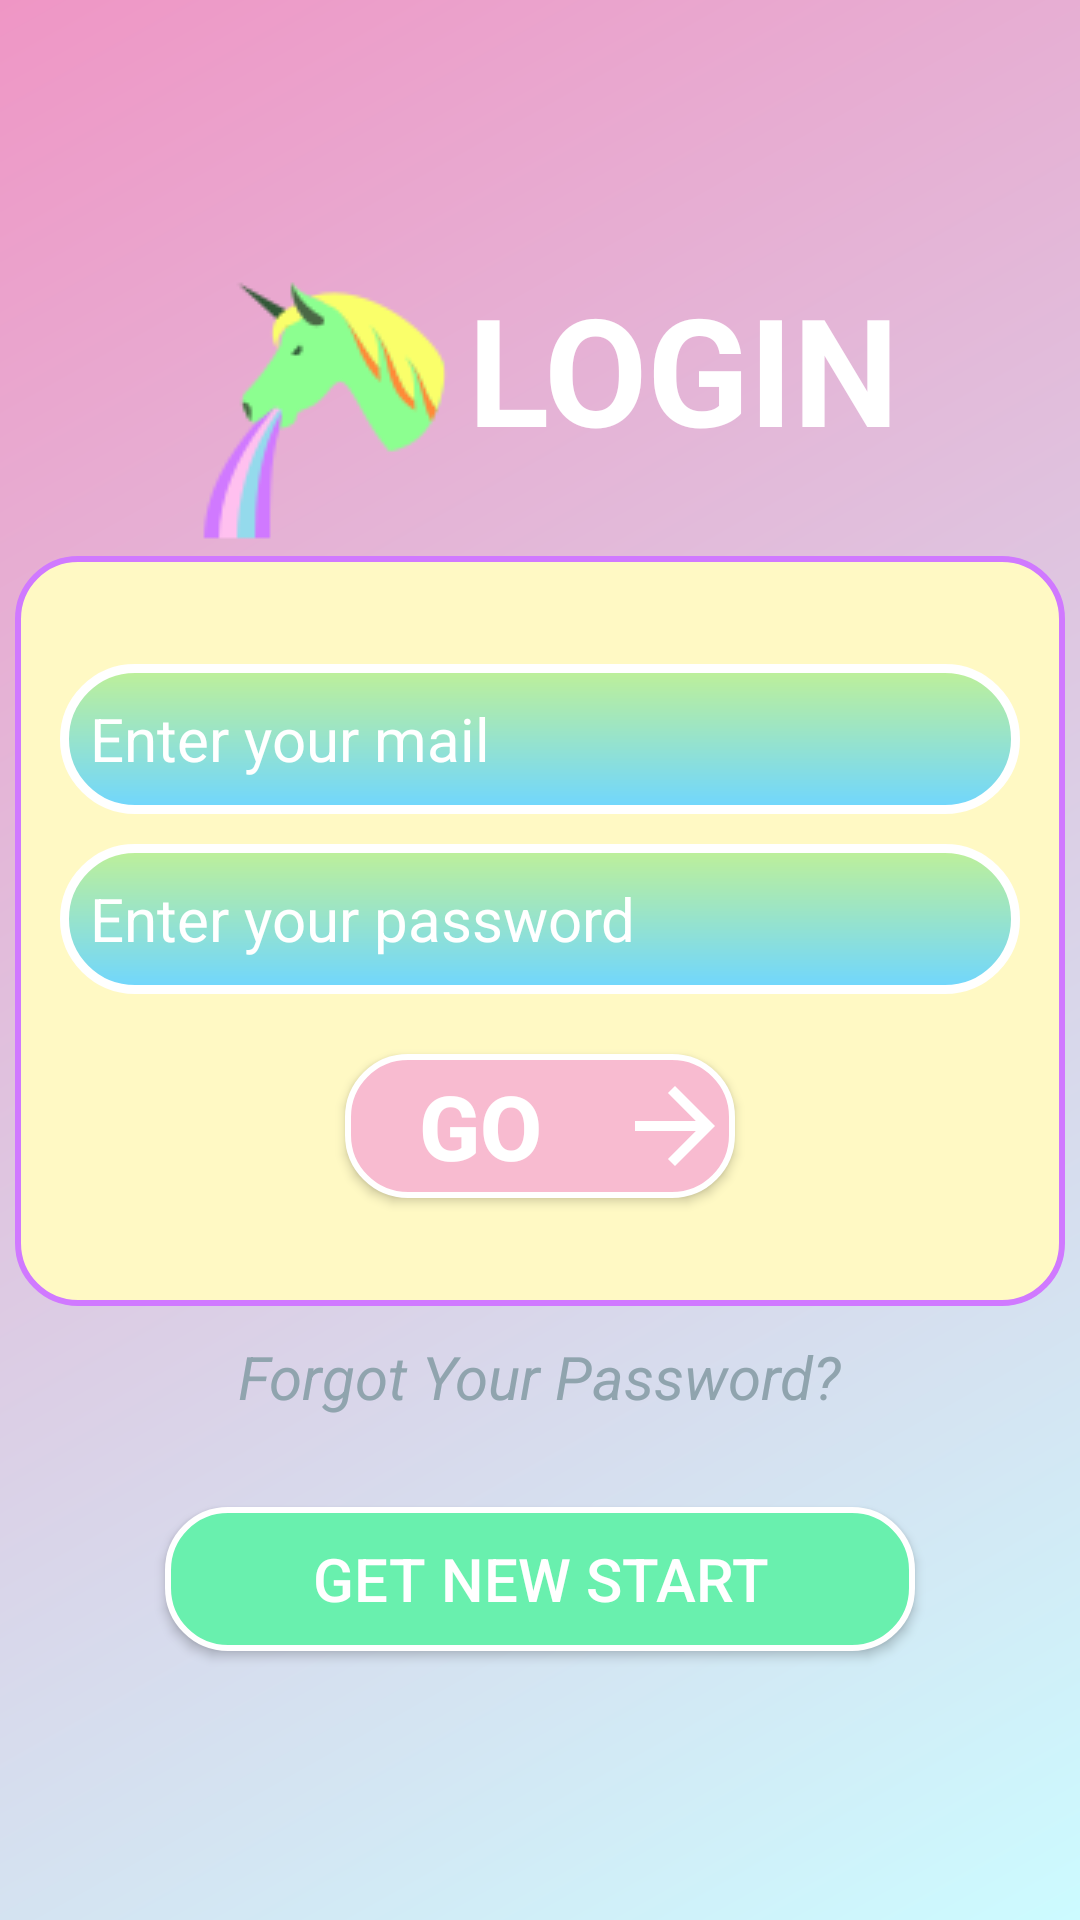

Named icons in this screenshot (1080w x 1920h) and their bounding boxes, (x1, y1, x2, y2):
uniconrainbow: (204, 283, 445, 539)
